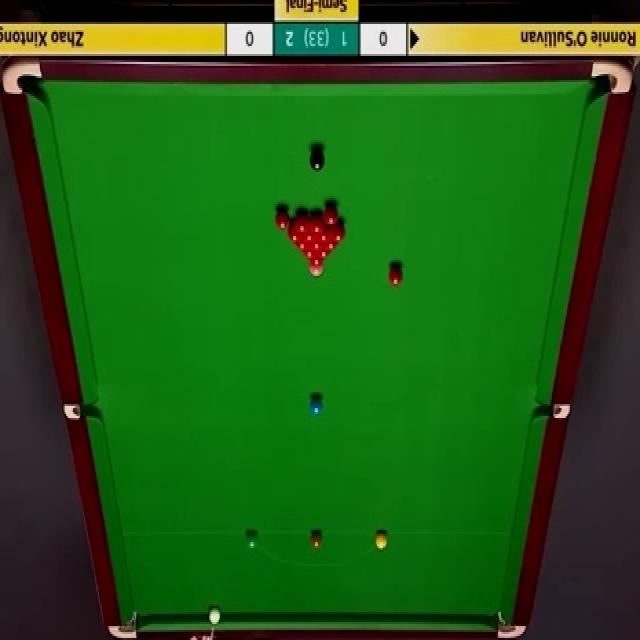black-ball: (309, 147, 325, 173)
blue-ball: (310, 398, 323, 416)
brown-ball: (310, 531, 323, 548)
green-ball: (244, 528, 258, 552)
pink-ball: (308, 260, 323, 277)
red-ball: (294, 209, 309, 235), (329, 220, 345, 244), (275, 206, 290, 231), (323, 206, 339, 228), (388, 262, 402, 287), (300, 224, 318, 242), (309, 214, 323, 235), (287, 224, 302, 243), (294, 238, 310, 253), (322, 239, 338, 253), (318, 222, 329, 242), (309, 238, 323, 252), (304, 246, 316, 262), (316, 248, 330, 260)
white-ball: (208, 606, 221, 626)
yellow-ball: (374, 530, 388, 551)
